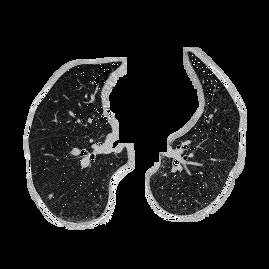PN: (48, 194, 52, 198)
